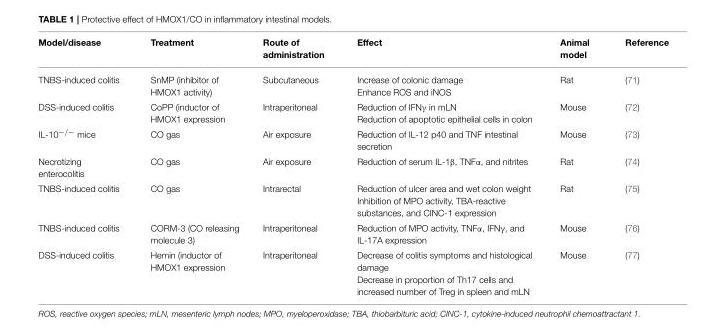table: (37, 37, 668, 295)
table column: (339, 37, 545, 295), (134, 37, 250, 295), (37, 37, 134, 295), (250, 37, 339, 295), (606, 37, 668, 295), (545, 37, 606, 295)
table column header: (37, 37, 668, 67)
table row: (37, 247, 668, 295), (37, 180, 668, 220), (37, 67, 668, 99), (37, 37, 668, 67), (37, 125, 668, 153), (37, 153, 668, 180), (37, 220, 668, 247), (37, 99, 668, 125)
